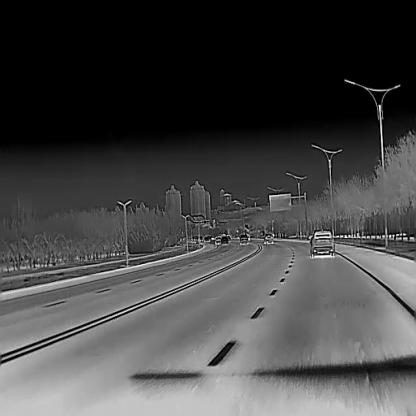car: (308, 227, 335, 256), (263, 232, 274, 244), (239, 234, 248, 245), (221, 236, 228, 244), (215, 236, 221, 244), (203, 236, 210, 241), (226, 234, 231, 240)
